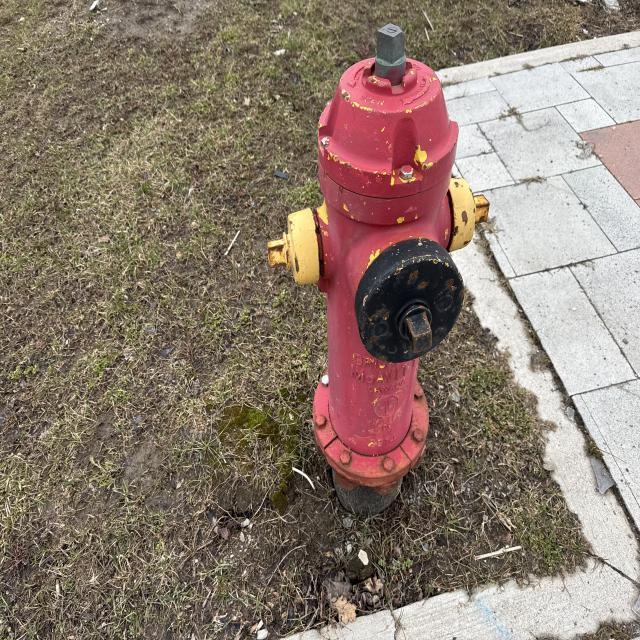Fire hydrant: (266, 22, 490, 500)
